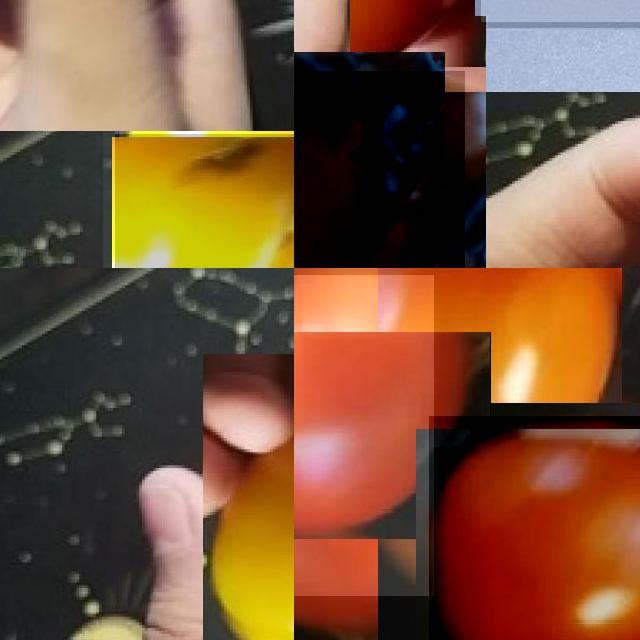0: (308, 268, 622, 435), (429, 415, 640, 640), (294, 275, 434, 596)
Fresh Tomato: (203, 354, 294, 640)
Rotten Tomato: (294, 71, 465, 268), (115, 133, 294, 268)
